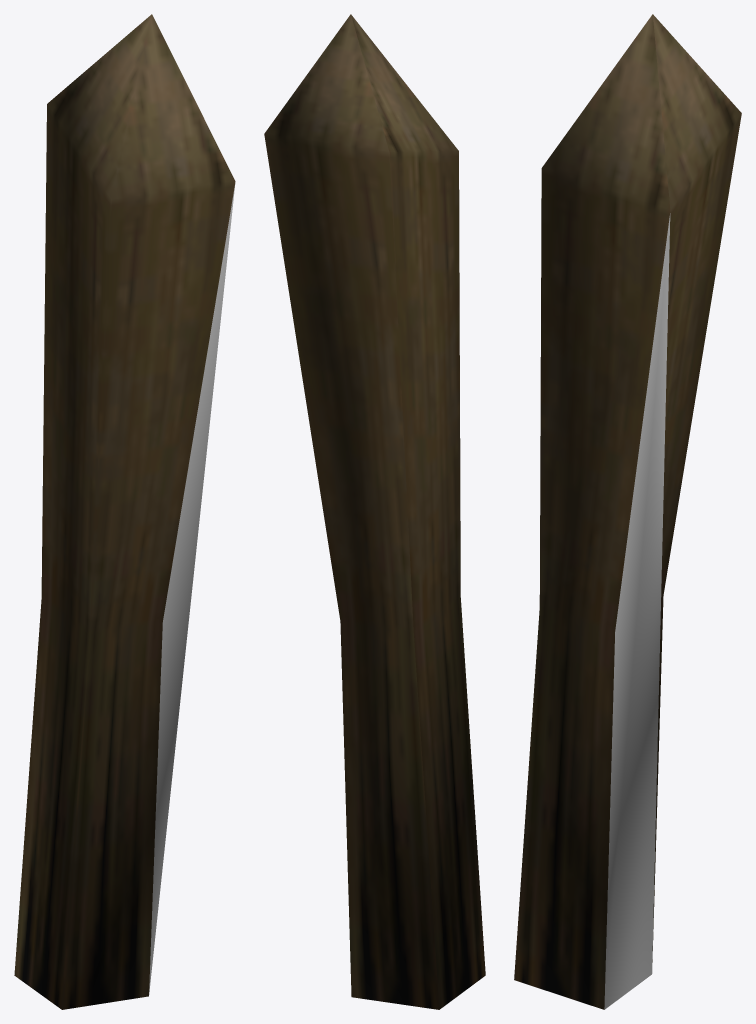
File: stst147.dae
3 views of the same model, side by side, from view 1: azimuth 30°, elevation 25°; view 2: azimuth 150°, elevation 25°; view 3: azimuth 330°, elevation 25° (orthographic). The views are drawn at different scales.
Visible parts, largest first — view 1: point01, s12; view 2: point01; view 3: point01, s12.
Boxes of the visible parts, x1,y1,x2,y2 form: point01: (14, 14, 235, 1009); s12: (149, 184, 235, 994); point01: (264, 14, 485, 1009); point01: (514, 14, 741, 1009); s12: (604, 213, 670, 1009).
Size of the model in its own units: 0.18 by 0.1264 by 0.9938.
Materials: 2 (1 with a texture image).
